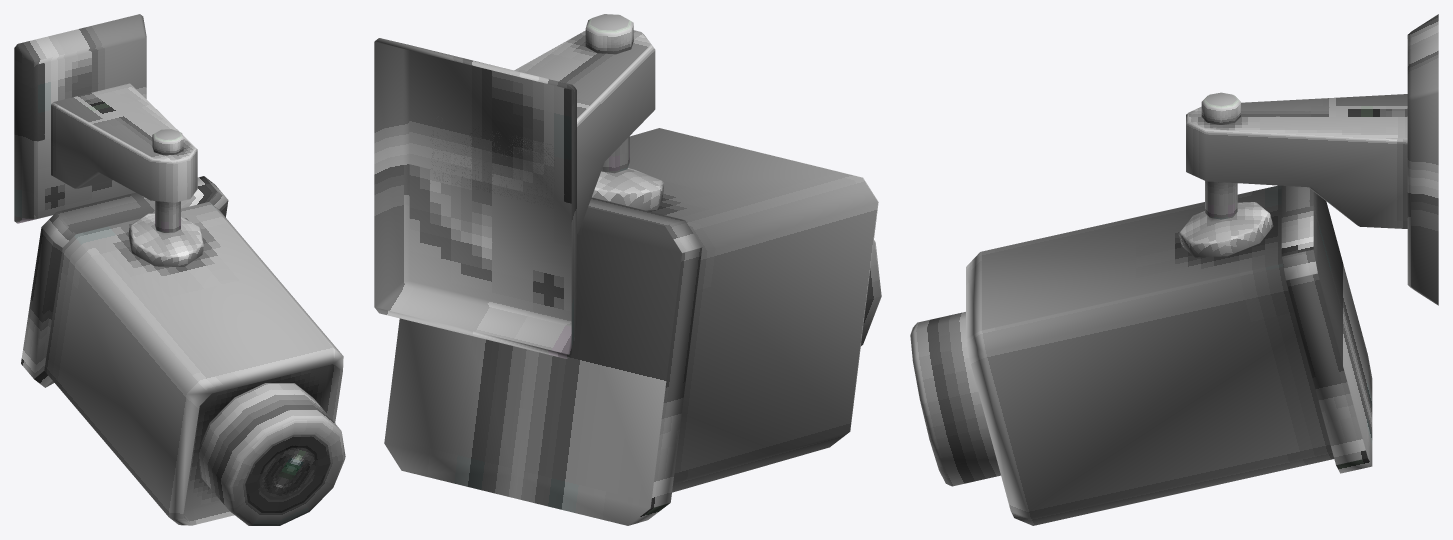
Rendered from int_oth_surveillance.dae.
The picture shows the model from 3 angles, left to right: view 1: azimuth 30°, elevation 25°; view 2: azimuth 150°, elevation 25°; view 3: azimuth 270°, elevation 25°; orthographic projection. The views are drawn at different scales.
Visible parts, largest first — view 1: int_oth_surveillance; view 2: int_oth_surveillance; view 3: int_oth_surveillance.
Part boxes in pixels (x1,y1,x2,y2): int_oth_surveillance: (14,14,345,525); int_oth_surveillance: (374,14,881,525); int_oth_surveillance: (910,14,1438,525).
Size of the model in its own units: 8.09 by 15.91 by 17.47.
Materials: 1 (1 with a texture image).
